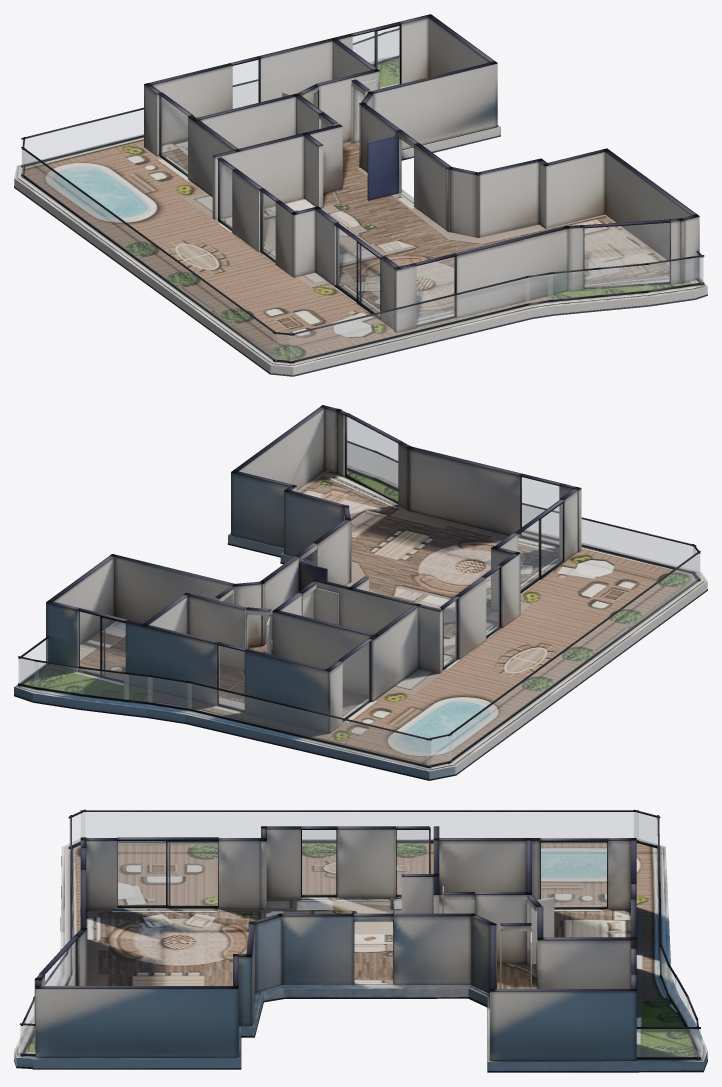
3 renders of one model, top to bottom at view 1: azimuth 30°, elevation 25°; view 2: azimuth 150°, elevation 25°; view 3: azimuth 270°, elevation 25°, orthographic. The views are drawn at different scales.
Visible parts, largest first — view 1: plan, railg1_m, railg10_m, glass5_m, railg7_m, glass3_m, glass4_m, glass2_m, glass0_m, railg12_m, railg13_m, railg14_m (+4 smaller); view 2: plan, railg1_m, railg7_m, railg10_m, glass5_m, glass2_m, glass3_m, glass4_m, glass0_m, glass1_m, railg4_m, railg3_m (+7 smaller); view 3: plan, railg1_m, glass3_m, glass0_m, glass7_m, railg0_m, glass6_m, glass5_m, railg8_m, railg16_m.
Part boxes in pixels (box(x1,y1,x2,y2)): plan: box(14, 14, 707, 376); railg1_m: box(22, 150, 276, 359); railg10_m: box(290, 278, 529, 361); glass5_m: box(584, 223, 669, 287); railg7_m: box(22, 81, 257, 164); glass3_m: box(336, 226, 379, 316); glass4_m: box(417, 257, 454, 324); glass2_m: box(353, 26, 399, 88); glass0_m: box(160, 96, 187, 174); railg12_m: box(548, 269, 600, 299); railg13_m: box(596, 265, 648, 294); railg14_m: box(644, 258, 693, 290); plan: box(14, 405, 707, 780); railg1_m: box(448, 554, 699, 761); railg7_m: box(188, 683, 430, 765); railg10_m: box(522, 505, 695, 571); glass5_m: box(346, 416, 397, 501); glass2_m: box(79, 611, 125, 680); glass3_m: box(518, 503, 562, 590); glass4_m: box(521, 477, 558, 543); glass0_m: box(343, 642, 369, 717); glass1_m: box(218, 646, 244, 709); railg4_m: box(79, 668, 128, 699); railg3_m: box(35, 662, 83, 693); plan: box(14, 809, 707, 1072); railg1_m: box(81, 812, 638, 840); glass3_m: box(117, 841, 217, 905); glass0_m: box(541, 842, 606, 906); glass7_m: box(302, 830, 335, 894); railg0_m: box(637, 1029, 700, 1056); glass6_m: box(397, 830, 428, 894); glass5_m: box(45, 941, 75, 985); railg8_m: box(634, 812, 659, 845); railg16_m: box(20, 1025, 35, 1053).
Size of the model in its own units: 15.7 by 2.62 by 20.6.
2 materials, 1 textured.
